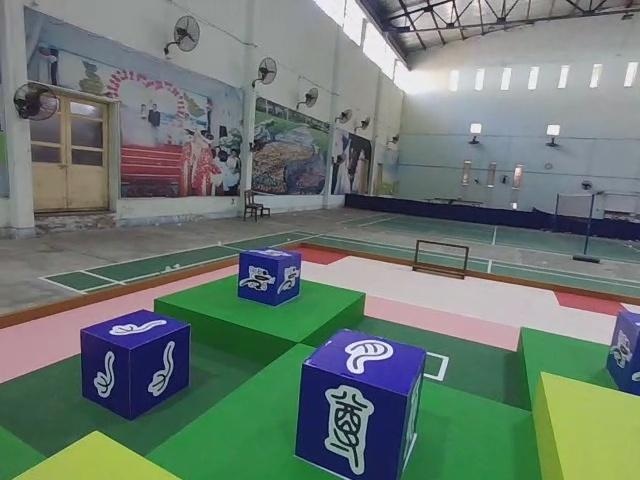R1 Blue: (239, 247, 304, 308), (606, 312, 640, 404)
R2 Fake Blue: (297, 331, 426, 480)
R2 Real Blue: (80, 312, 192, 424)
